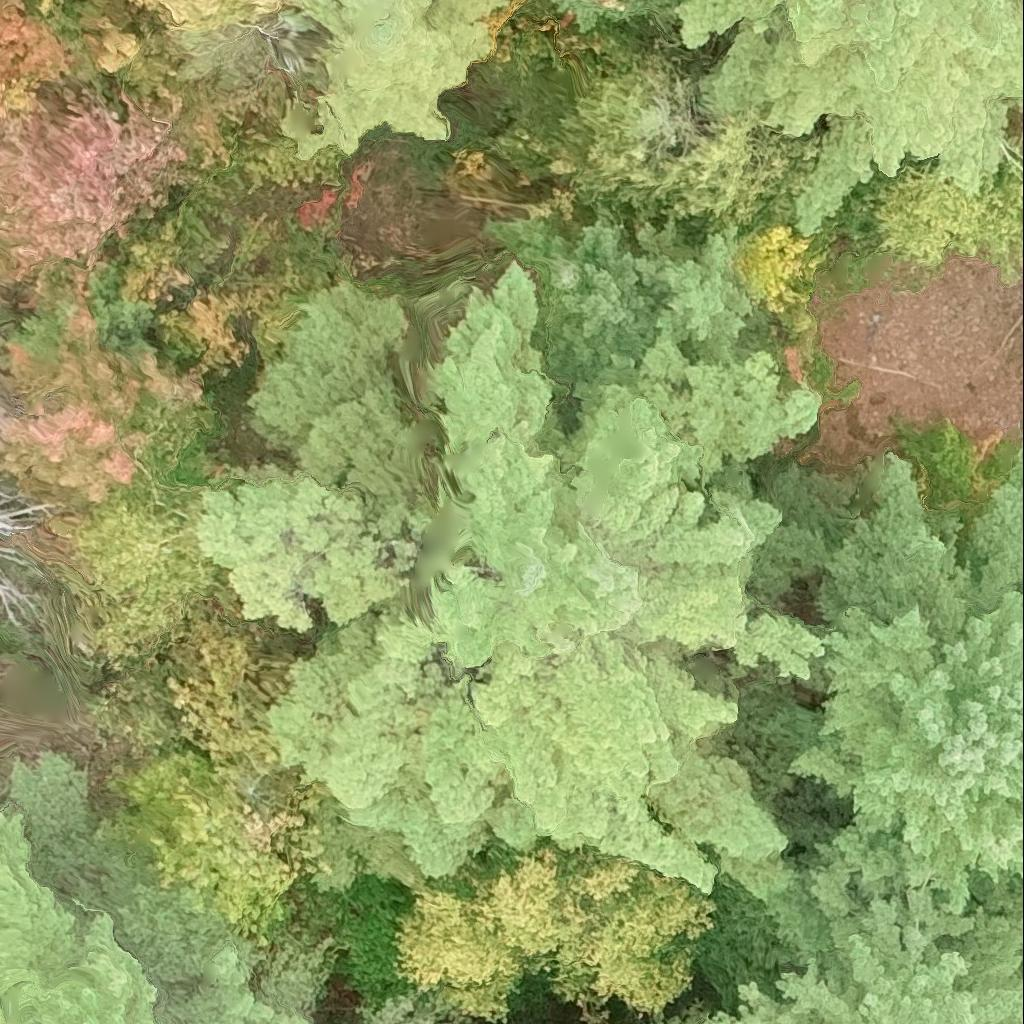crown: (202, 266, 842, 897), (789, 421, 1023, 950), (0, 753, 313, 1023), (674, 0, 1023, 234), (698, 845, 1023, 1023), (475, 840, 720, 1010), (108, 755, 306, 950), (489, 217, 669, 431), (563, 56, 783, 216), (631, 210, 777, 370), (386, 886, 526, 1022), (864, 164, 1023, 282), (734, 226, 828, 329)
